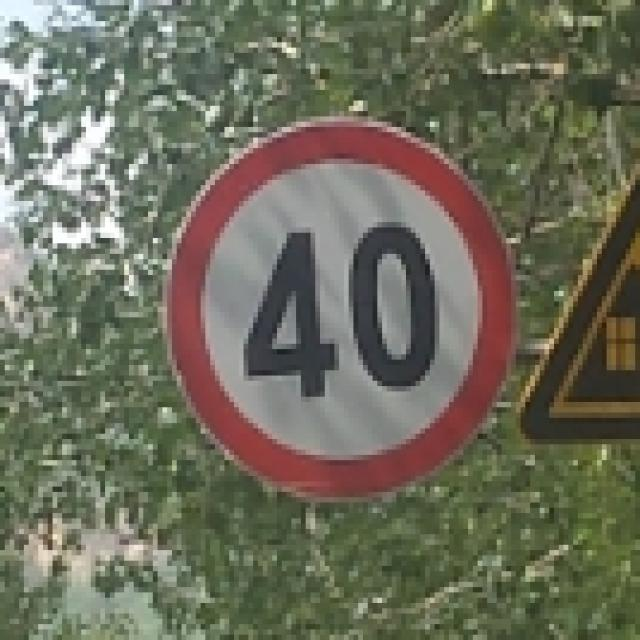Speed: (168, 115, 522, 508)
